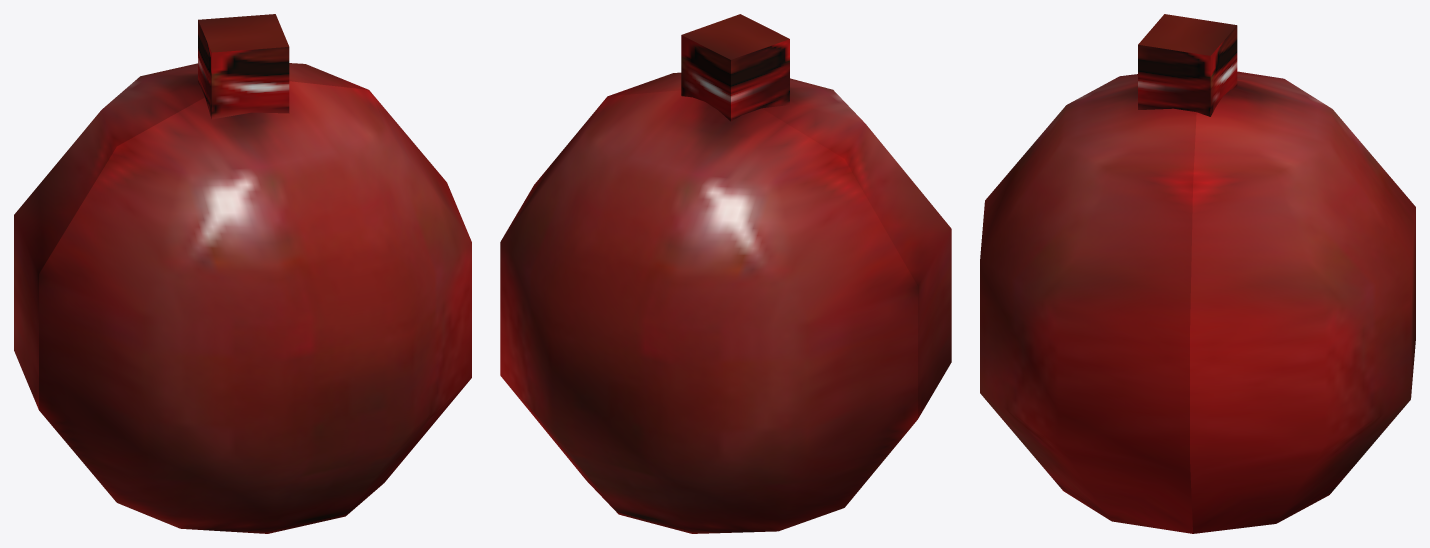
The model's file is bottle_01.FBX.
3 views of the same model, side by side, from view 1: azimuth 30°, elevation 25°; view 2: azimuth 150°, elevation 25°; view 3: azimuth 270°, elevation 25° (orthographic). The views are drawn at different scales.
Visible parts, largest first — view 1: bottle_01; view 2: bottle_01; view 3: bottle_01.
Boxes of the visible parts, x1=… form: bottle_01: x1=14, y1=14, x2=471, y2=533; bottle_01: x1=500, y1=14, x2=951, y2=533; bottle_01: x1=980, y1=14, x2=1415, y2=533.
Bounding box in the file's own units: 0.2583 × 0.2754 × 0.2485.
